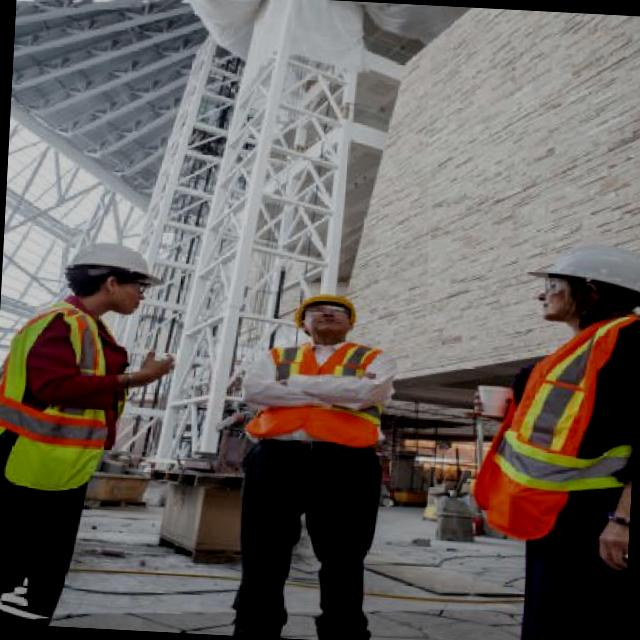Person: (469, 237, 640, 640), (0, 222, 171, 602), (222, 283, 403, 640)
